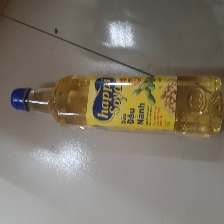Happy Soya: (8, 72, 224, 136)
